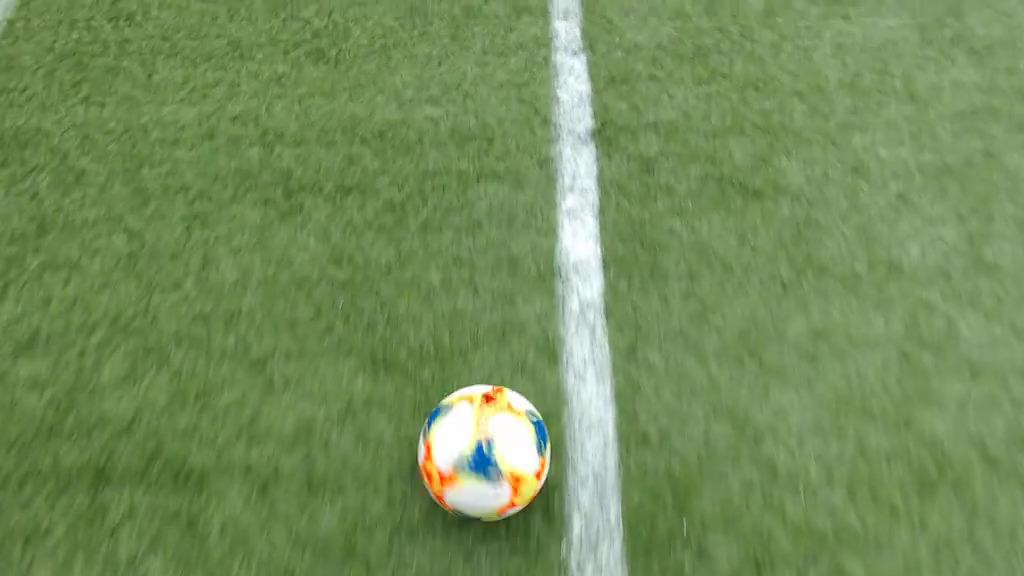ball: (419, 382, 551, 522)
